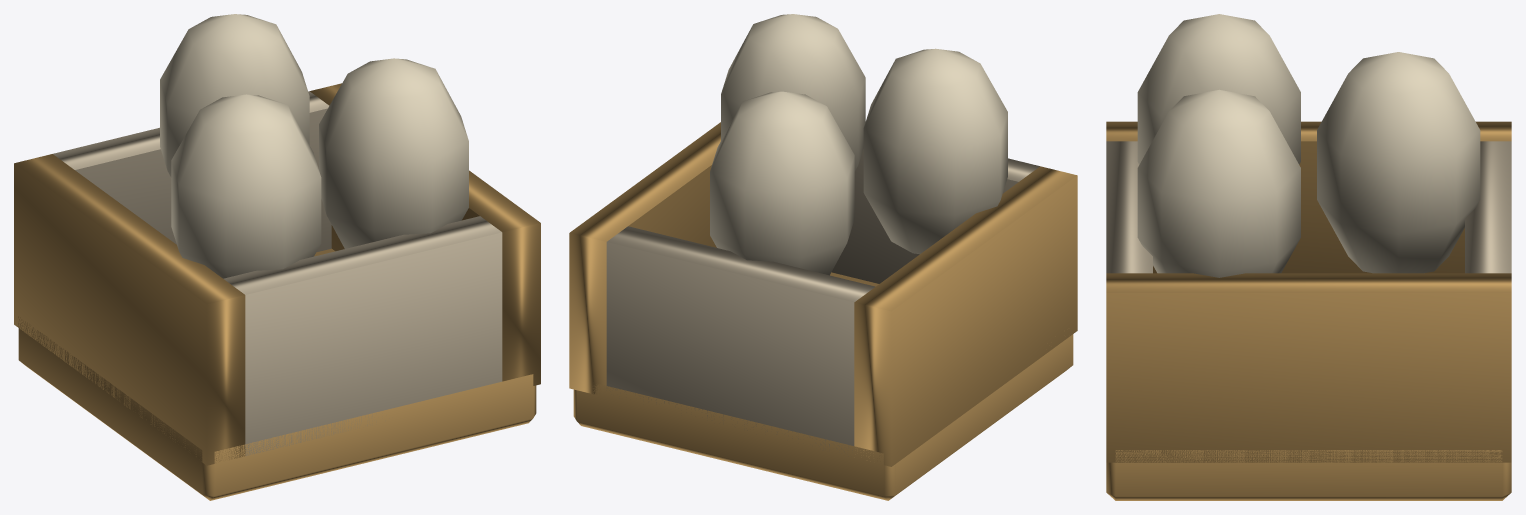
File: cargo_eggs.glb
3 renders of one model, left to right at view 1: azimuth 30°, elevation 25°; view 2: azimuth 150°, elevation 25°; view 3: azimuth 270°, elevation 25°, orthographic. The views are drawn at different scales.
Parts seen in each view (by area): view 1: cargo_eggs; view 2: cargo_eggs; view 3: cargo_eggs.
Part boxes in pixels (x1,y1,x2,y2): cargo_eggs: (14,14,540,500); cargo_eggs: (569,14,1077,500); cargo_eggs: (1106,14,1511,500).
Size of the model in its own units: 0.52 by 0.52 by 0.52.
